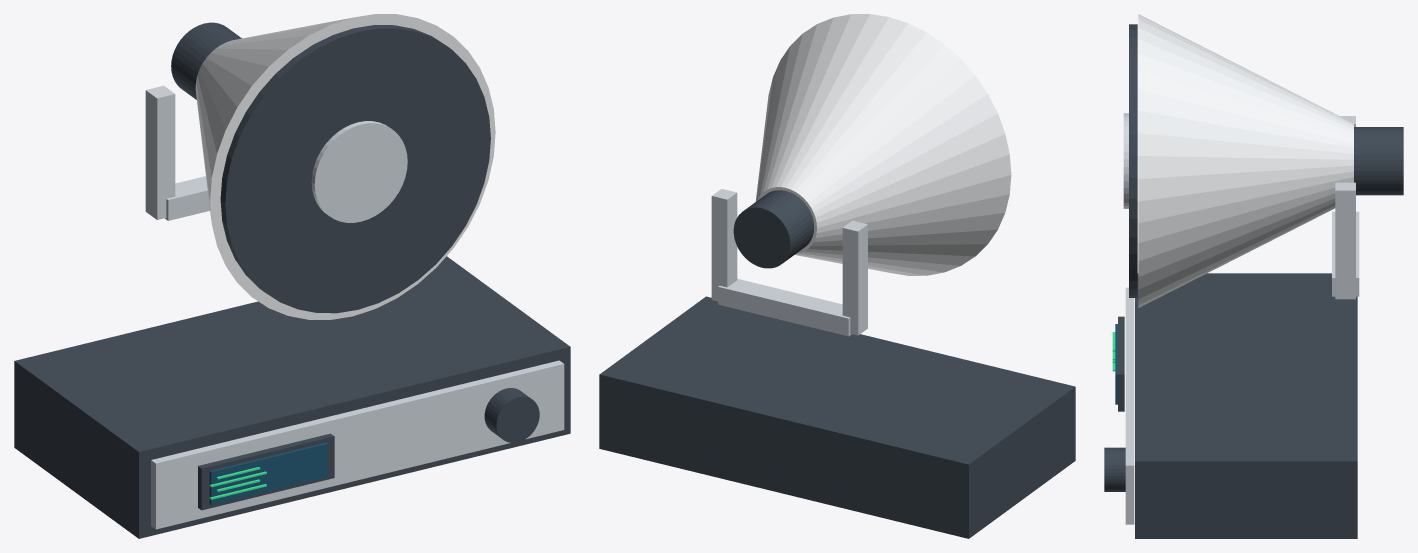
3 renders of one model, left to right at view 1: azimuth 30°, elevation 25°; view 2: azimuth 150°, elevation 25°; view 3: azimuth 270°, elevation 25°, orthographic. The views are drawn at different scales.
Visible parts, largest first — view 1: PA amplifier, Horn mouth, Amplifier face, Horn flare, Driver grille, Bracket side, LCD glass, Horn throat, Volume knob, Display bezel, Bracket crossbar; view 2: PA amplifier, Horn flare, Bracket side (×2), Horn throat, Bracket crossbar; view 3: PA amplifier, Horn flare, Horn throat, Bracket side, Horn mouth, Amplifier face, Volume knob, Bracket crossbar, Display bezel, Driver grille.
Part boxes in pixels (box(x1,y1,x2,y2)): PA amplifier: box(14, 256, 570, 538); Horn mouth: box(220, 25, 490, 313); Amplifier face: box(151, 360, 564, 529); Horn flare: box(195, 14, 495, 319); Driver grille: box(311, 121, 407, 222); Bracket side: box(145, 85, 175, 219); LCD glass: box(209, 442, 327, 505); Horn throat: box(171, 22, 241, 99); Volume knob: box(484, 388, 539, 442); Display bezel: box(198, 433, 334, 510); Bracket crossbar: box(165, 176, 209, 220); PA amplifier: box(599, 296, 1075, 538); Horn flare: box(755, 14, 1011, 275); Bracket side (×2): box(711, 189, 867, 335); Horn throat: box(733, 190, 814, 268); Bracket crossbar: box(718, 278, 851, 336); PA amplifier: box(1135, 273, 1357, 538); Horn flare: box(1138, 14, 1353, 307); Horn throat: box(1354, 127, 1403, 195); Bracket side: box(1335, 182, 1355, 299); Horn mouth: box(1129, 24, 1137, 297); Amplifier face: box(1125, 287, 1134, 524); Volume knob: box(1104, 447, 1125, 491); Bracket crossbar: box(1332, 211, 1359, 296); Display bezel: box(1118, 316, 1124, 411); Driver grille: box(1123, 113, 1128, 208).
Bounding box in the file's own units: 1.3 × 1.35 × 0.875.
